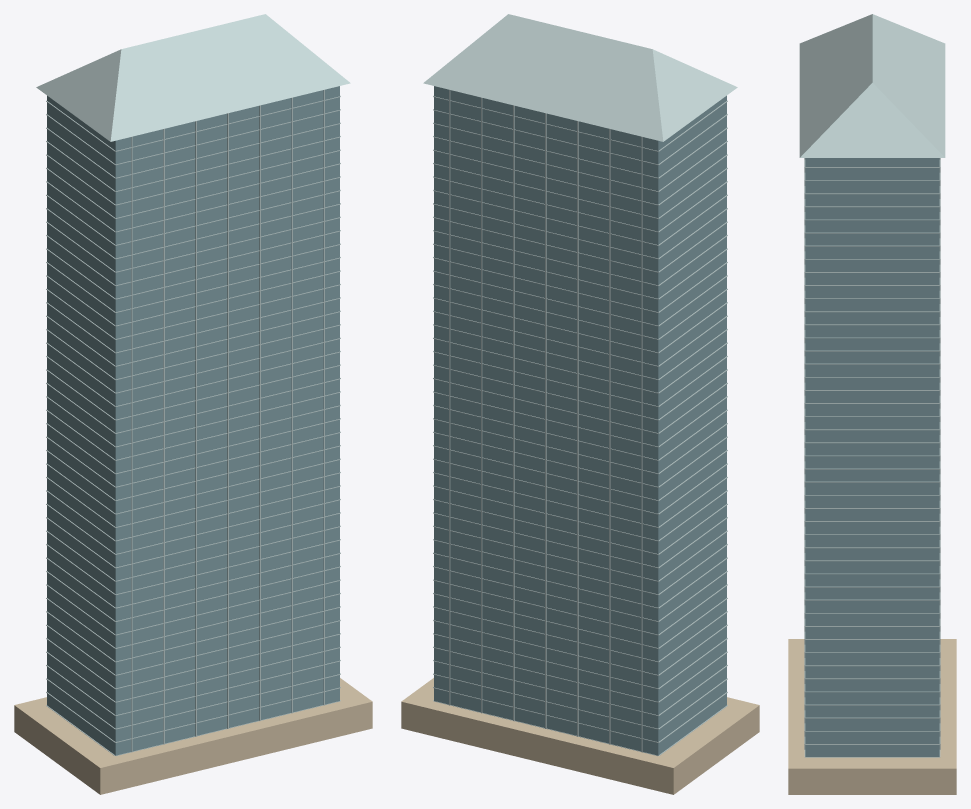
The model's file is china-insurance.glb.
3 renders of one model, left to right at view 1: azimuth 30°, elevation 25°; view 2: azimuth 150°, elevation 25°; view 3: azimuth 270°, elevation 25°, orthographic. The views are drawn at different scales.
Visible parts, largest first — view 1: china-insurance; view 2: china-insurance; view 3: china-insurance.
Boxes of the visible parts, x1,y1,x2,y2 form: china-insurance: (14, 14, 372, 794); china-insurance: (401, 14, 759, 794); china-insurance: (788, 14, 956, 794).
Size of the model in its own units: 79.98 by 196 by 43.77.
